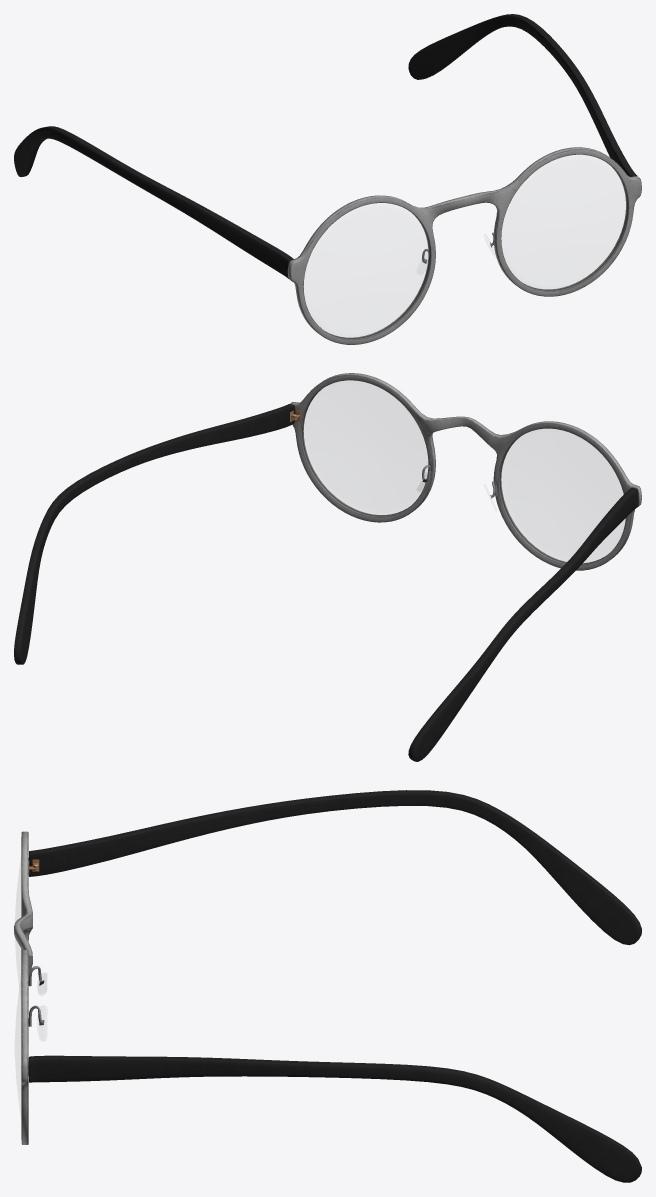
The model's file is round_spectacles.gltf.
3 renders of one model, top to bottom at view 1: azimuth 30°, elevation 25°; view 2: azimuth 150°, elevation 25°; view 3: azimuth 270°, elevation 25°, orthographic. The views are drawn at different scales.
Visible parts, largest first — view 1: round_spectacles; view 2: round_spectacles; view 3: round_spectacles.
Boxes of the visible parts, bbox=[...] form: round_spectacles: bbox=[14, 14, 641, 344]; round_spectacles: bbox=[14, 373, 641, 761]; round_spectacles: bbox=[14, 790, 641, 1182].
Size of the model in its own units: 0.1578 by 0.0463 by 0.149.
Materials: 2 (1 with a texture image).
